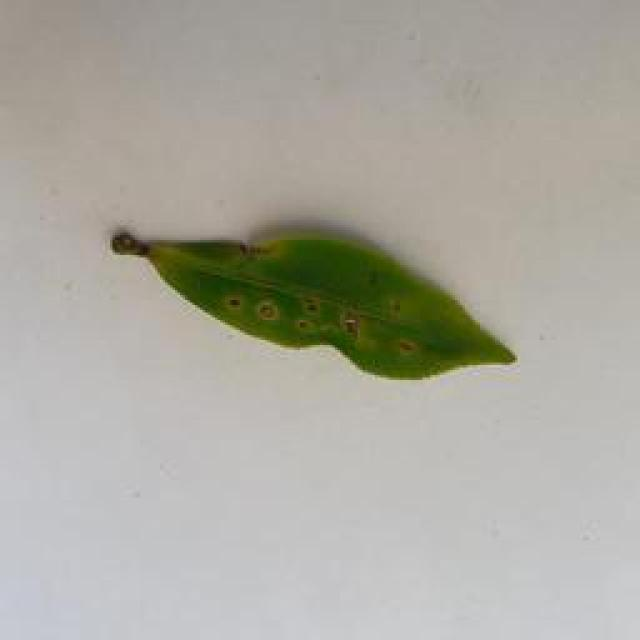Helopeltis: (110, 221, 520, 386)
